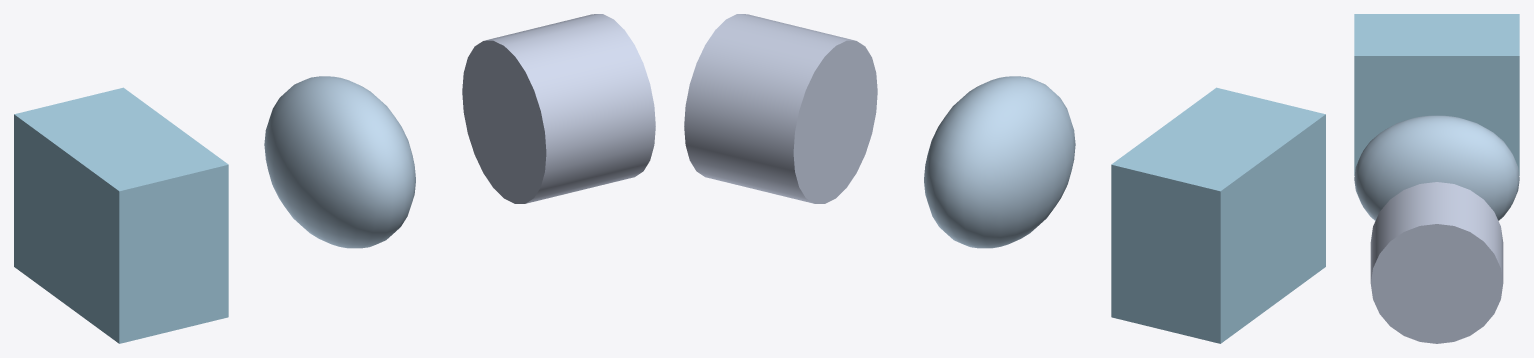
Rendered from legacy.glb.
3 views of the same model, side by side, from view 1: azimuth 30°, elevation 25°; view 2: azimuth 150°, elevation 25°; view 3: azimuth 270°, elevation 25° (orthographic). The views are drawn at different scales.
Parts seen in each view (by area): view 1: Brick, Cylinder, Sphere; view 2: Brick, Cylinder, Sphere; view 3: Brick, Cylinder, Sphere.
Boxes of the visible parts, <box> form: Brick: <box>14,87,228,343</box>; Cylinder: <box>462,14,655,203</box>; Sphere: <box>264,76,415,248</box>; Brick: <box>1111,87,1325,343</box>; Cylinder: <box>684,14,877,203</box>; Sphere: <box>924,76,1075,248</box>; Brick: <box>1354,14,1519,175</box>; Cylinder: <box>1370,182,1503,343</box>; Sphere: <box>1354,115,1519,220</box>.
Bounding box in the file's own units: 15 × 4 × 5.
